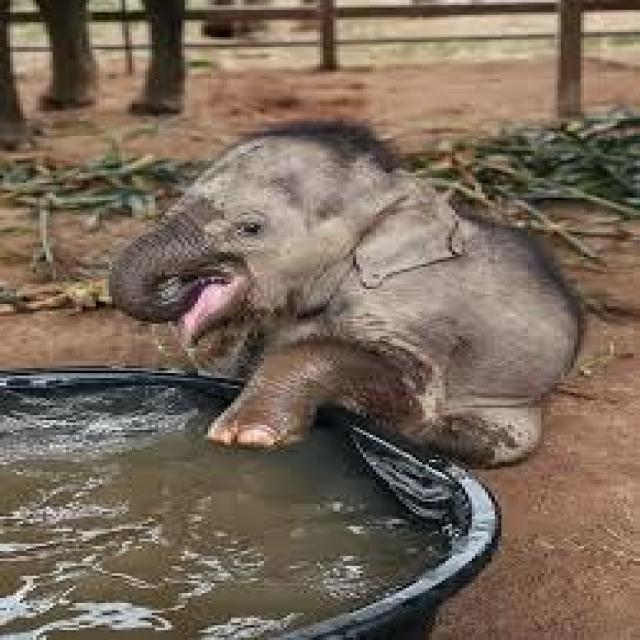Elephant: (106, 111, 594, 472)
